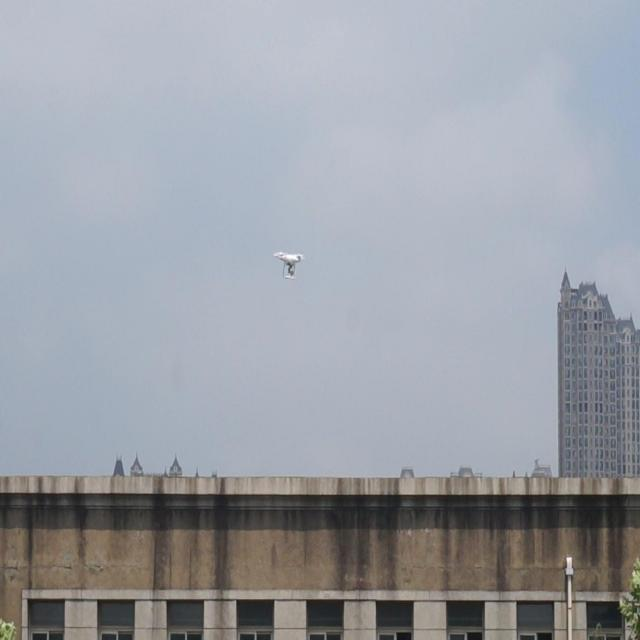UAV: (272, 251, 305, 279)
